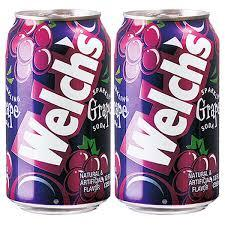welchs_grape: (115, 6, 224, 215), (4, 9, 114, 213)
